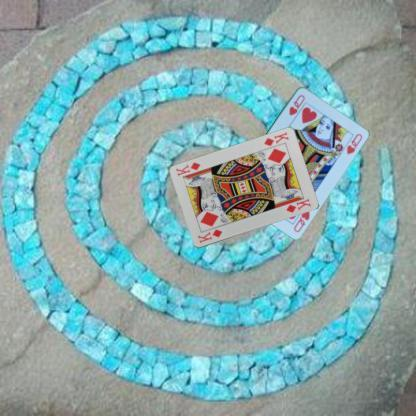Kd: (195, 226, 224, 245), (261, 130, 290, 147)
Qh: (286, 92, 306, 117), (291, 208, 311, 233)
